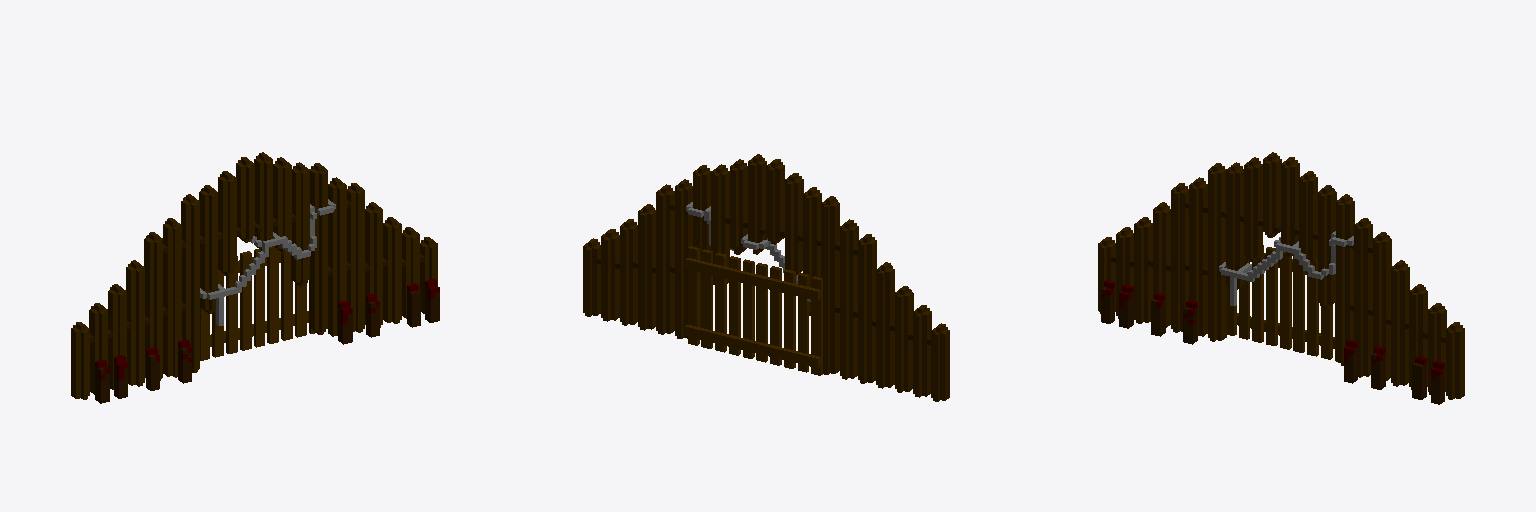
3 views of the same model, side by side, from view 1: azimuth 30°, elevation 25°; view 2: azimuth 150°, elevation 25°; view 3: azimuth 330°, elevation 25° (orthographic).
Parts seen in each view (by area): view 1: orcGateWithDoor; view 2: orcGateWithDoor; view 3: orcGateWithDoor.
Boxes of the visible parts, x1=… form: orcGateWithDoor: x1=71, y1=152, x2=439, y2=403; orcGateWithDoor: x1=583, y1=154, x2=949, y2=401; orcGateWithDoor: x1=1098, y1=152, x2=1464, y2=404.
Bounding box in the file's own units: 79 × 41 × 9.
1 materials, 1 textured.